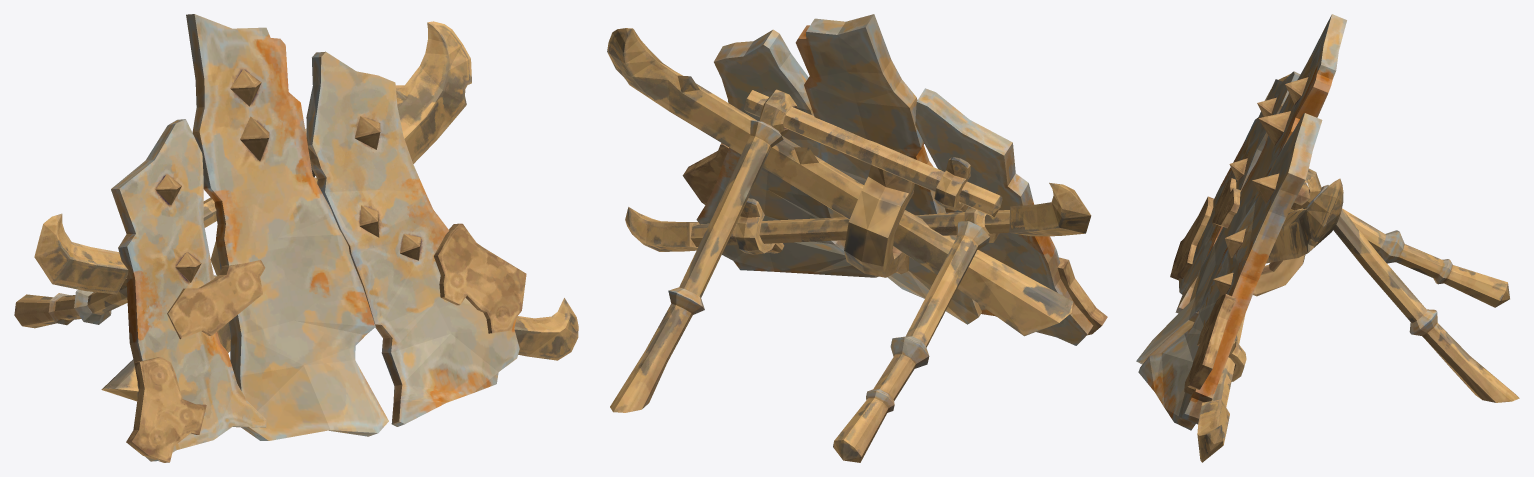
File: Barricade_E.fbx
3 renders of one model, left to right at view 1: azimuth 30°, elevation 25°; view 2: azimuth 150°, elevation 25°; view 3: azimuth 270°, elevation 25°, orthographic. The views are drawn at different scales.
Parts seen in each view (by area): view 1: Dn_HL_Barricade_E.mo; view 2: Dn_HL_Barricade_E.mo; view 3: Dn_HL_Barricade_E.mo.
Part boxes in pixels (x1,y1,x2,y2): Dn_HL_Barricade_E.mo: (14, 14, 578, 462); Dn_HL_Barricade_E.mo: (607, 14, 1107, 462); Dn_HL_Barricade_E.mo: (1136, 14, 1519, 462).
Size of the model in its own units: 460 by 320 by 343.
1 material, 1 textured.
